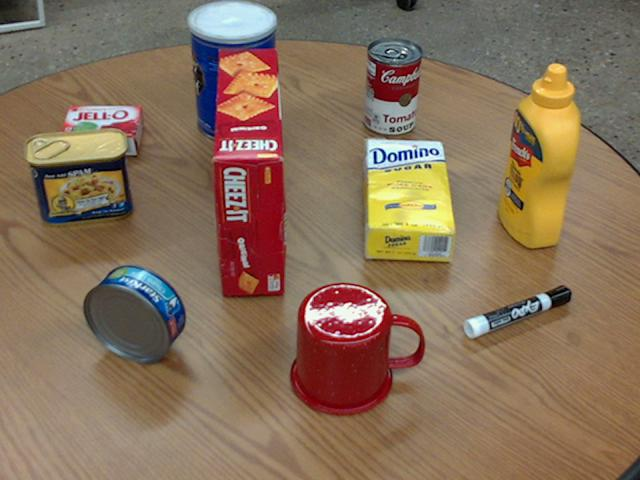cracker_box: (211, 49, 282, 294)
gelatin_box: (57, 105, 141, 152)
large_marker: (464, 285, 570, 338)
master_chef_can: (187, 0, 274, 142)
mug: (290, 282, 423, 415)
mustard_bottle: (498, 65, 578, 247)
potted_meat_can: (25, 127, 131, 224)
sugar_box: (364, 139, 454, 259)
tomato_soup_can: (363, 37, 422, 134)
tuna_fish_can: (84, 266, 186, 361)
